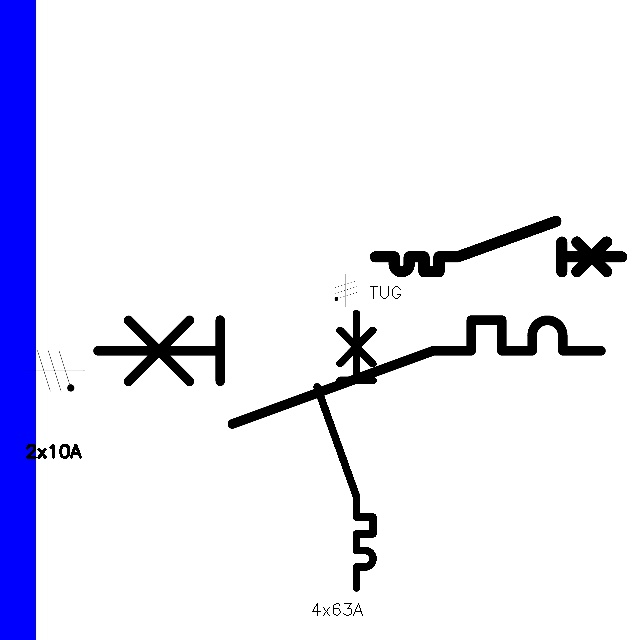interruptor_termomagnetico: (84, 307, 613, 436), (310, 306, 380, 595), (369, 215, 628, 278)
